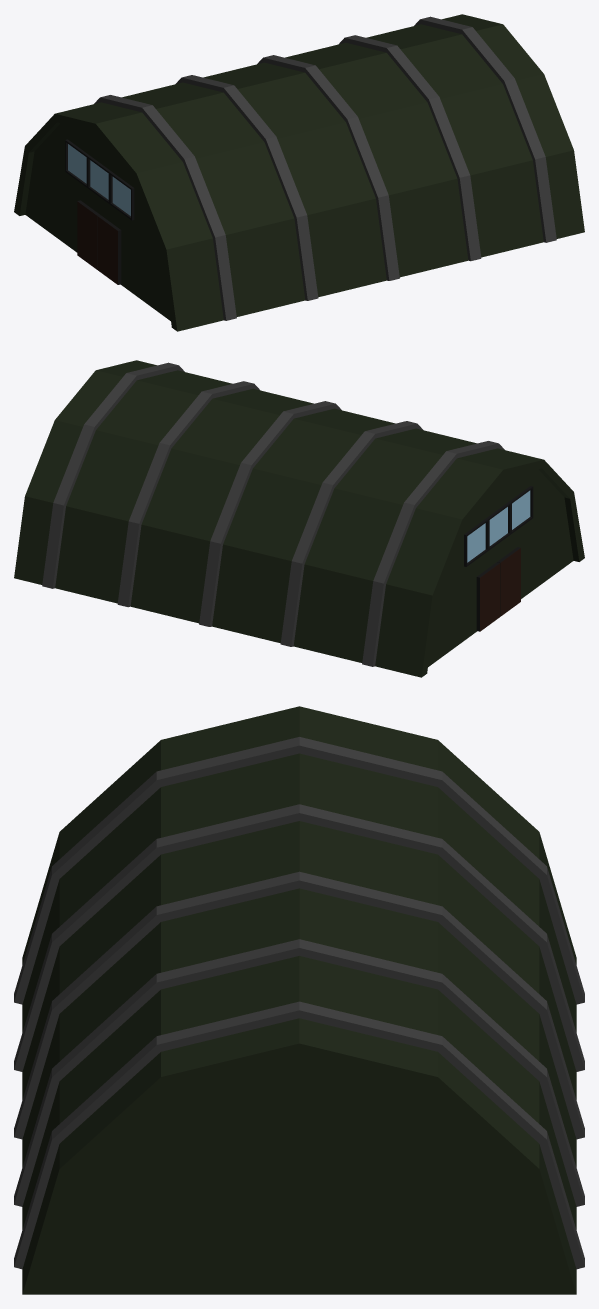
Rendered from Bunker_Verde.FBX.
3 views of the same model, one above another, from view 1: azimuth 30°, elevation 25°; view 2: azimuth 150°, elevation 25°; view 3: azimuth 270°, elevation 25° (orthographic). The views are drawn at different scales.
Parts seen in each view (by area): view 1: Bunker_soldados011; view 2: Bunker_soldados011; view 3: Bunker_soldados011.
Boxes of the visible parts, left/top/right/bottom form: Bunker_soldados011: left=14, top=14, right=584, bottom=331; Bunker_soldados011: left=14, top=360, right=584, bottom=677; Bunker_soldados011: left=14, top=706, right=584, bottom=1294.
Bounding box in the file's own units: 2104 × 754 × 1506.
